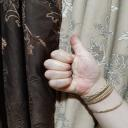ThumbsUp: (44, 33, 106, 98)
